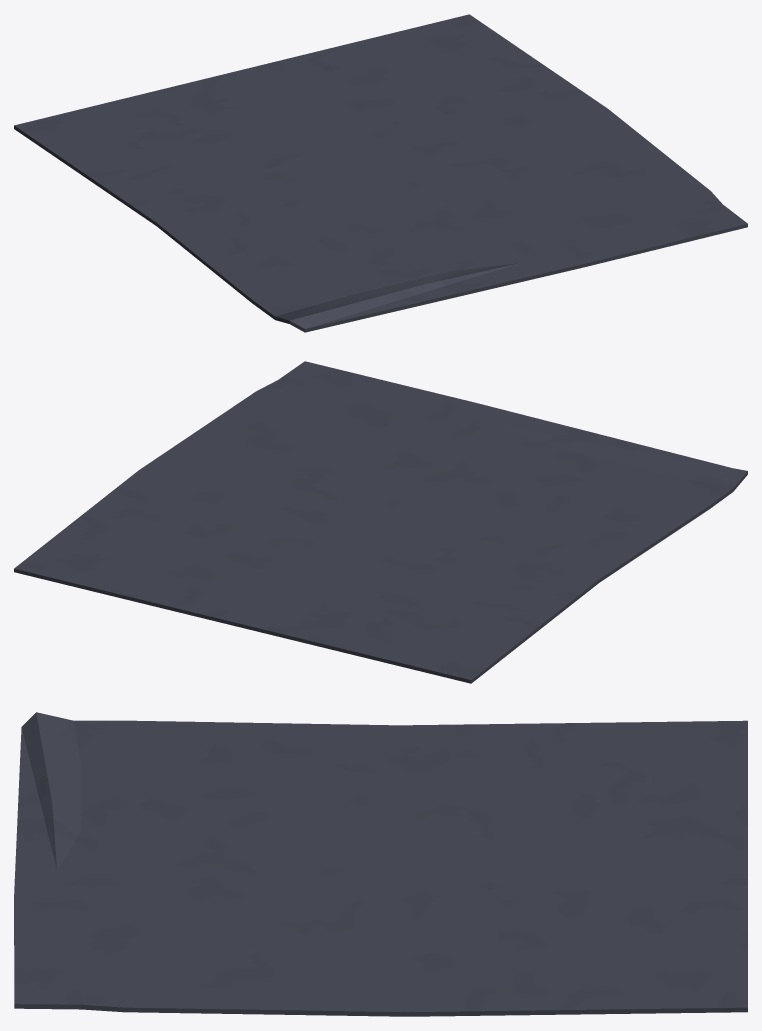
File: SM_Prop_Rug_05.obj
3 renders of one model, top to bottom at view 1: azimuth 30°, elevation 25°; view 2: azimuth 150°, elevation 25°; view 3: azimuth 270°, elevation 25°, orthographic. The views are drawn at different scales.
Visible parts, largest first — view 1: SM_Prop_Rug_05_M_PolygonOffice_01_A; view 2: SM_Prop_Rug_05_M_PolygonOffice_01_A; view 3: SM_Prop_Rug_05_M_PolygonOffice_01_A.
Part boxes in pixels (x1,y1,x2,y2): SM_Prop_Rug_05_M_PolygonOffice_01_A: [14, 14, 747, 332]; SM_Prop_Rug_05_M_PolygonOffice_01_A: [14, 361, 747, 683]; SM_Prop_Rug_05_M_PolygonOffice_01_A: [14, 712, 747, 1016].
Bounding box in the file's own units: 2.06 × 0.0434 × 2.19.
1 material, 1 textured.
